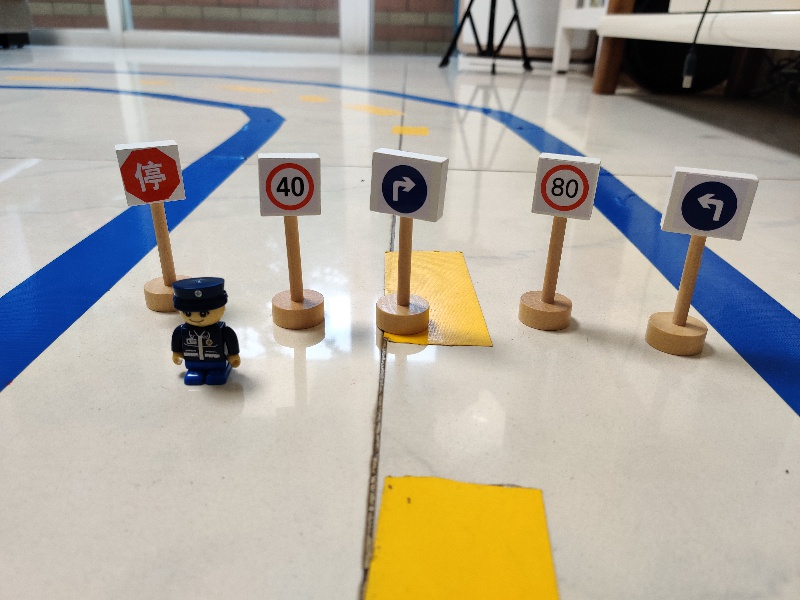limit_40: (249, 150, 327, 219)
limit_80: (526, 147, 603, 222)
person: (161, 274, 244, 389)
stop: (110, 137, 190, 208)
turn_left: (655, 158, 761, 243)
turn_right: (365, 144, 452, 224)
